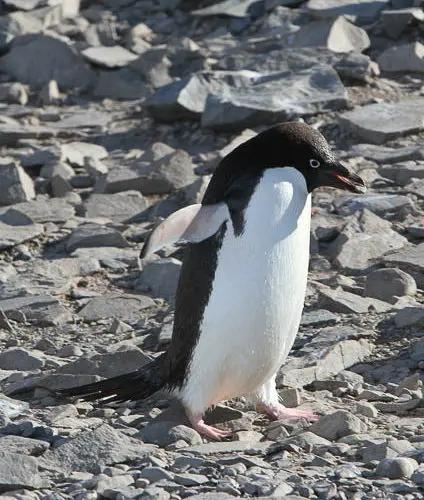Penguin: (63, 123, 362, 439)
